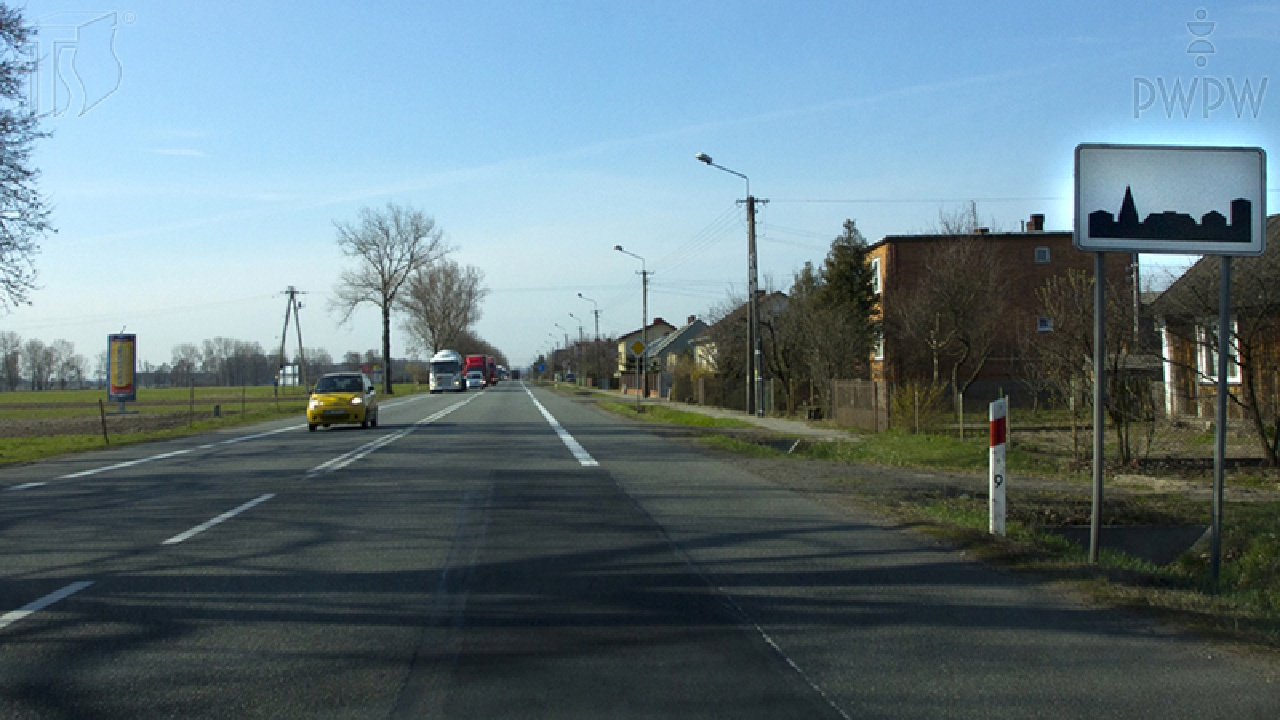D42: (1074, 141, 1268, 258)
